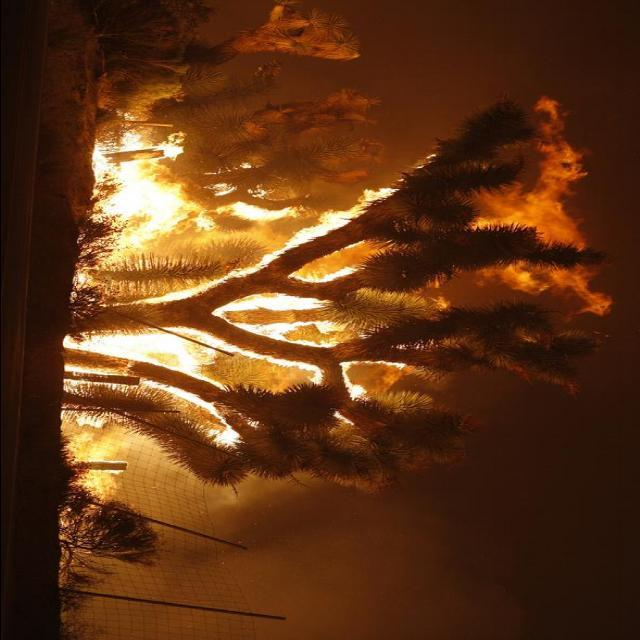Fire: (65, 113, 439, 458)
